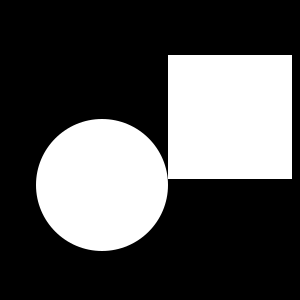circle: (168, 55, 292, 179)
rectangle: (36, 119, 168, 251), (74, 205, 100, 232)
